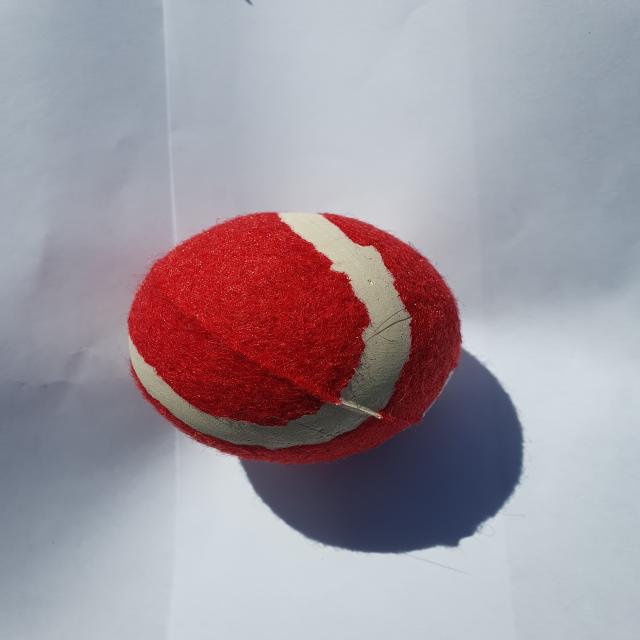red: (126, 209, 462, 466)
